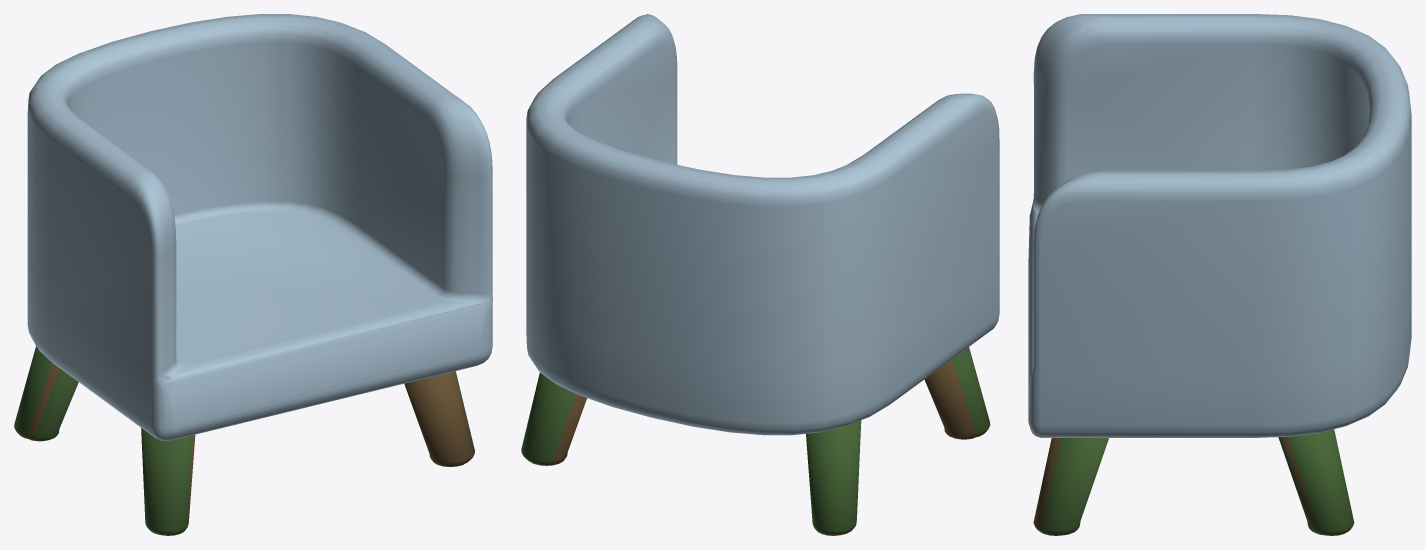
Rendered from LoungeChair_Red.fbx.
3 views of the same model, side by side, from view 1: azimuth 30°, elevation 25°; view 2: azimuth 150°, elevation 25°; view 3: azimuth 270°, elevation 25° (orthographic). The views are drawn at different scales.
Visible parts, largest first — view 1: loungeChair_.001; view 2: loungeChair_.001; view 3: loungeChair_.001.
Part boxes in pixels (x1,y1,x2,y2): loungeChair_.001: [14, 14, 492, 535]; loungeChair_.001: [521, 14, 999, 535]; loungeChair_.001: [1028, 14, 1411, 535].
Size of the model in its own units: 83.22 by 81.02 by 77.12.
